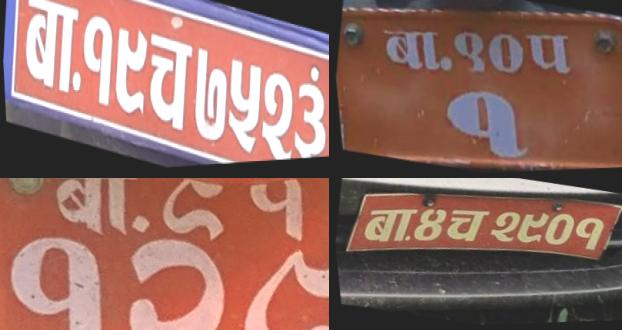0: (481, 30, 526, 78), (540, 209, 577, 250)
1: (0, 227, 127, 330), (433, 83, 538, 164), (232, 178, 319, 253), (74, 5, 120, 115), (568, 214, 608, 258)
2: (100, 229, 239, 330), (253, 60, 299, 164), (482, 206, 522, 250)
3: (285, 71, 329, 163)
4: (409, 206, 449, 246)
5: (220, 51, 268, 166)
7: (186, 43, 234, 157)
9: (217, 235, 329, 330), (145, 178, 239, 250), (106, 18, 152, 124), (445, 29, 492, 77), (512, 210, 550, 253)
ba: (33, 178, 144, 248), (16, 0, 85, 102), (374, 22, 444, 76), (357, 199, 422, 249)
cha: (140, 23, 199, 144), (441, 203, 490, 249)
pa: (520, 30, 574, 77)
